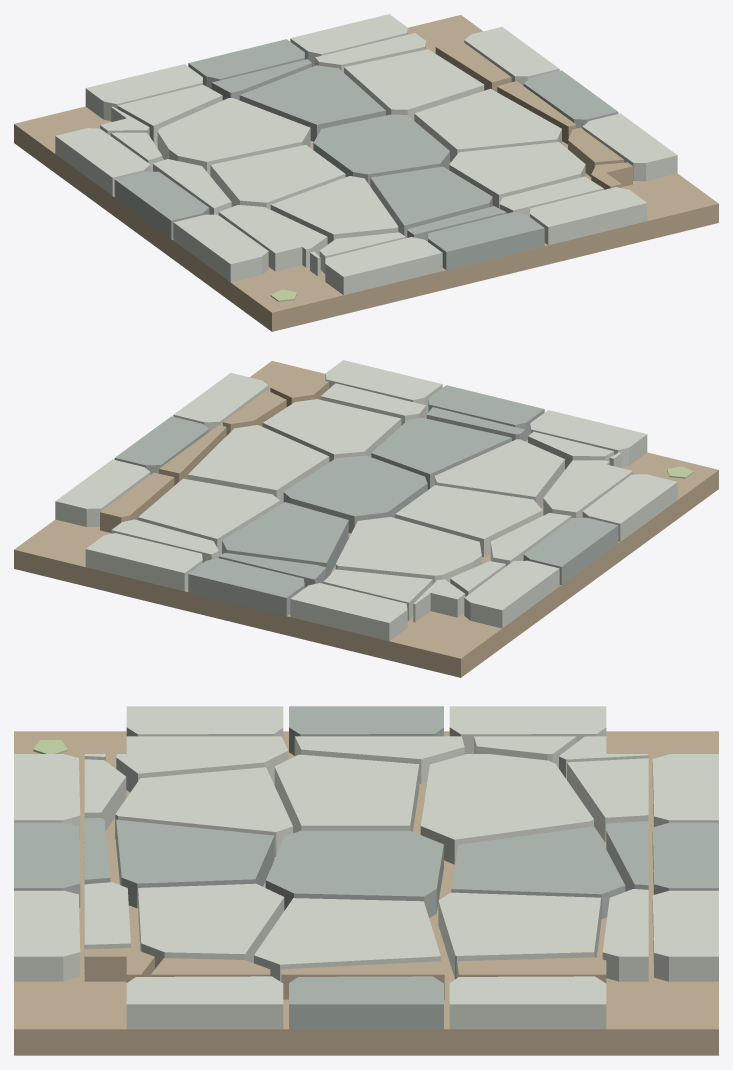
Rendered from world_road_cross.fbx.
3 renders of one model, top to bottom at view 1: azimuth 30°, elevation 25°; view 2: azimuth 150°, elevation 25°; view 3: azimuth 270°, elevation 25°, orthographic. The views are drawn at different scales.
Parts seen in each view (by area): view 1: world_road_cross_mesh; view 2: world_road_cross_mesh; view 3: world_road_cross_mesh.
Part boxes in pixels (left/top/right/bottom): world_road_cross_mesh: left=14, top=14, right=718, bottom=331; world_road_cross_mesh: left=14, top=360, right=718, bottom=677; world_road_cross_mesh: left=14, top=706, right=718, bottom=1055.
Size of the model in its own units: 1 by 0.08 by 1.
